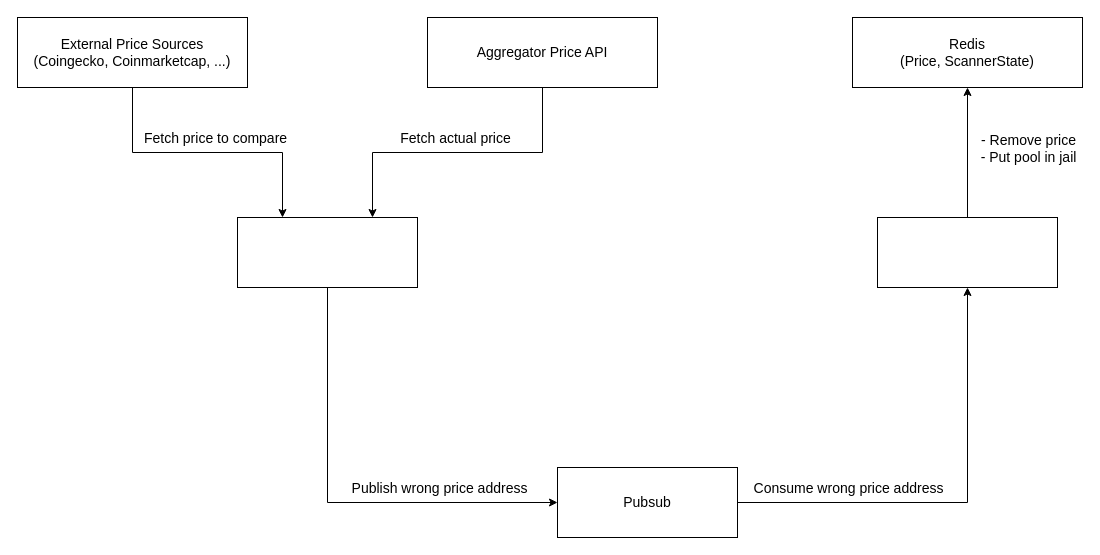
This 1100x555 diagram has some shape labels left out. Each missing label, with the box of its shape:
Aggregator Scanner: (876, 216, 1058, 288)
Price Verifier Service (QA team): (236, 216, 418, 288)
